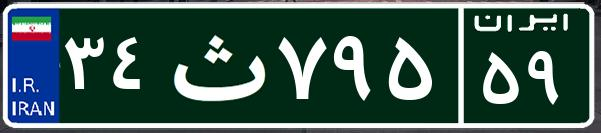3: (57, 26, 110, 107)
4: (110, 28, 158, 105)
5: (385, 28, 445, 110), (475, 38, 525, 113)
7: (273, 28, 330, 110)
9: (330, 28, 385, 110), (525, 38, 570, 115)
ث: (158, 15, 273, 115)
